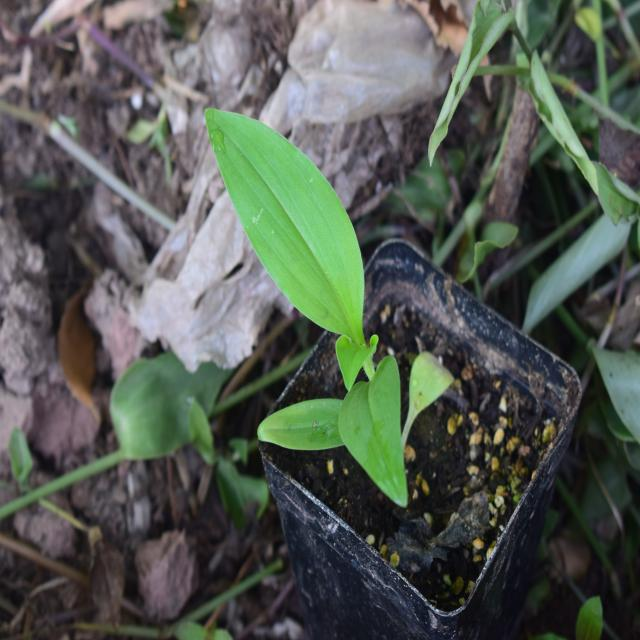Common Dayflower: (188, 82, 442, 496)
